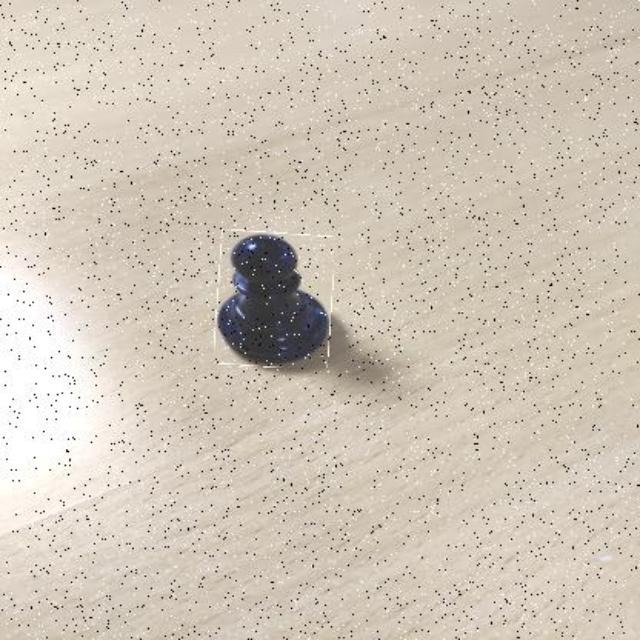black-pawn: (217, 231, 333, 367)
